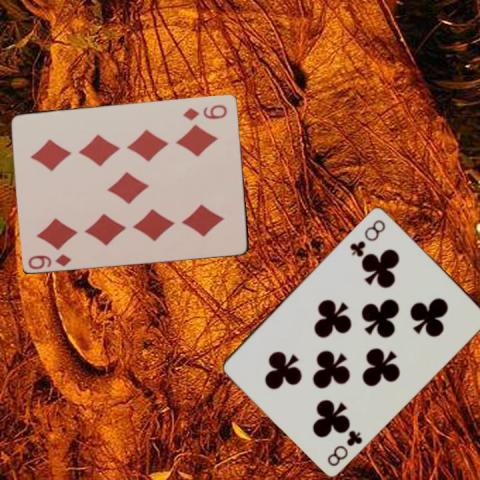8c: (346, 216, 386, 258), (324, 426, 364, 467)
9d: (180, 102, 229, 122), (25, 252, 74, 270)
